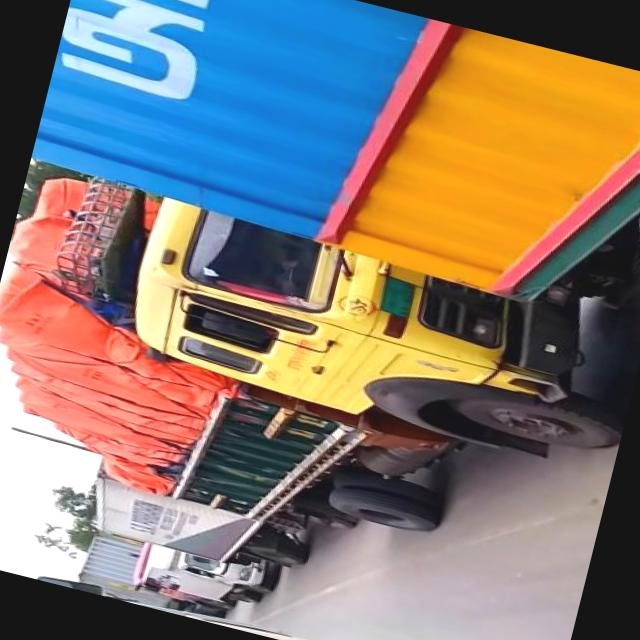truck: (0, 160, 640, 599), (80, 464, 311, 582), (72, 530, 240, 624), (137, 533, 277, 614)
